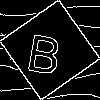B: (25, 25, 66, 76)
